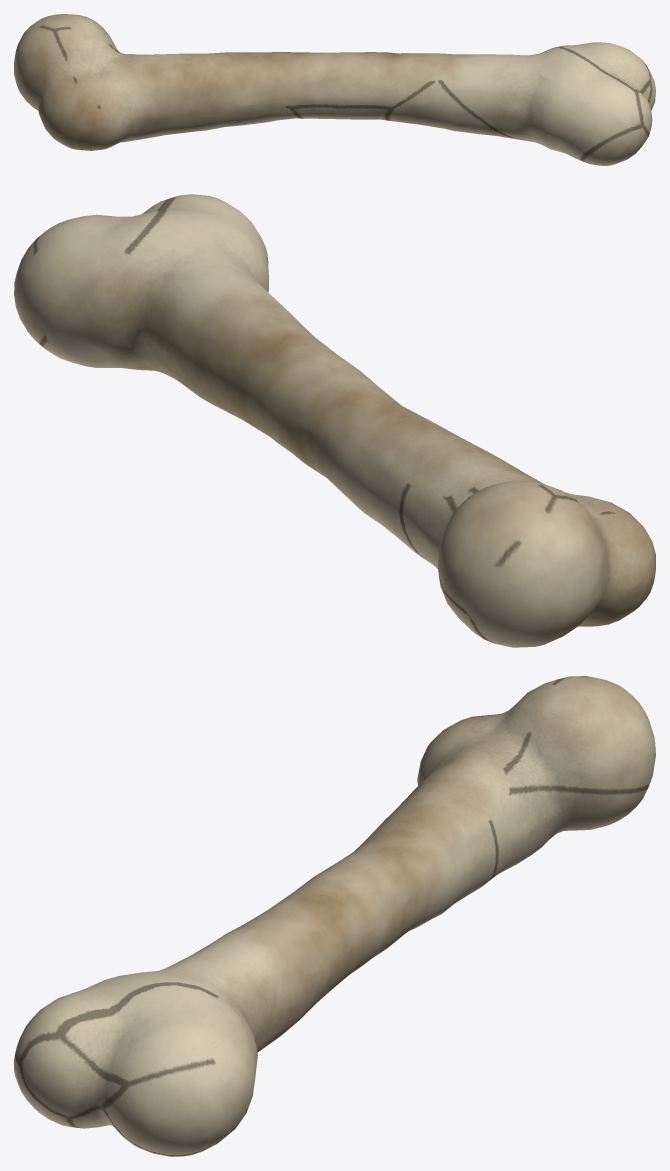
File: item_osso.glb
3 renders of one model, top to bottom at view 1: azimuth 30°, elevation 25°; view 2: azimuth 150°, elevation 25°; view 3: azimuth 270°, elevation 25°, orthographic. The views are drawn at different scales.
Parts seen in each view (by area): view 1: item_osso; view 2: item_osso; view 3: item_osso.
Boxes of the visible parts, x1,y1,x2,y2 form: item_osso: (14,14,655,165); item_osso: (14,194,655,647); item_osso: (14,676,655,1156).
Size of the model in its own units: 0.2873 by 0.0629 by 0.2148.
1 material, 1 textured.
